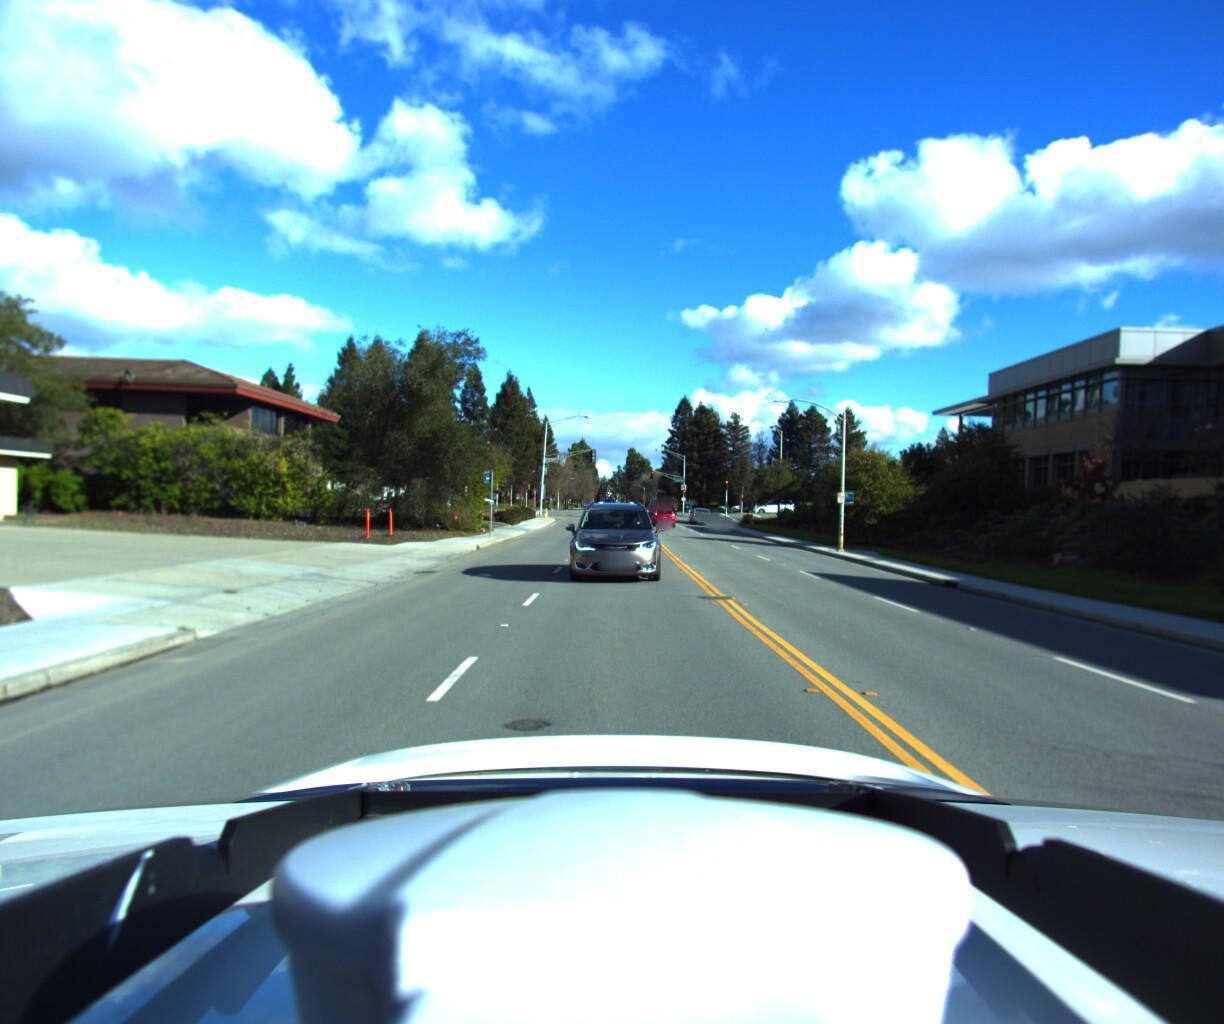car: (559, 488, 666, 583), (647, 506, 673, 527), (639, 501, 664, 522), (691, 504, 716, 524)
